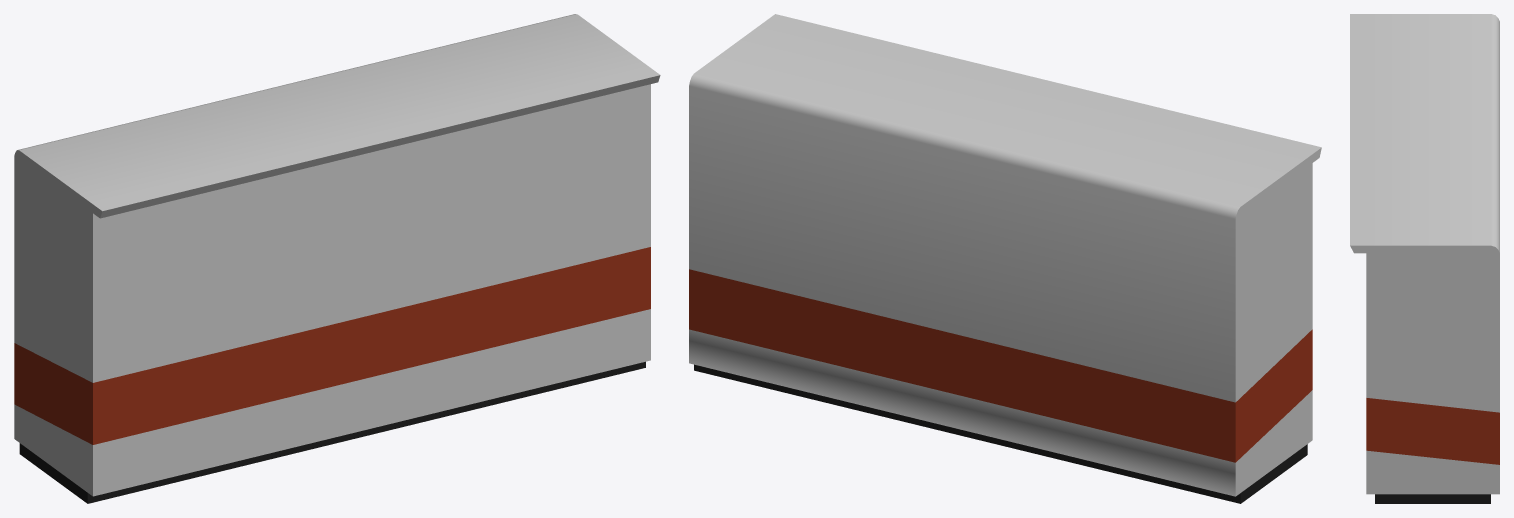
The model's file is desk-1.glb.
3 views of the same model, side by side, from view 1: azimuth 30°, elevation 25°; view 2: azimuth 150°, elevation 25°; view 3: azimuth 270°, elevation 25° (orthographic). The views are drawn at different scales.
Parts seen in each view (by area): view 1: Desk_1; view 2: Desk_1; view 3: Desk_1.
Part boxes in pixels (left/top/right/bottom): Desk_1: left=14, top=14, right=660, bottom=503; Desk_1: left=689, top=14, right=1321, bottom=503; Desk_1: left=1350, top=14, right=1499, bottom=503.
Size of the model in its own units: 200 by 104 by 54.67.
Materials: 1 (1 with a texture image).
